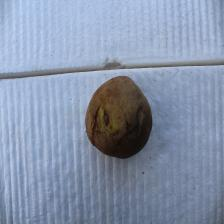Diseased-fungal potato: (84, 74, 154, 161)
